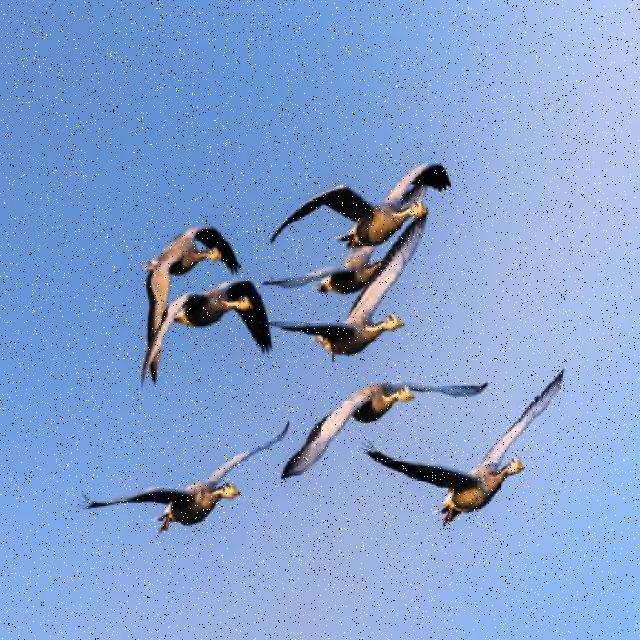bird: (360, 368, 566, 532), (268, 209, 432, 365), (80, 420, 292, 537), (280, 380, 491, 485), (268, 160, 454, 251), (144, 222, 244, 388), (138, 276, 274, 392), (260, 244, 391, 298)
